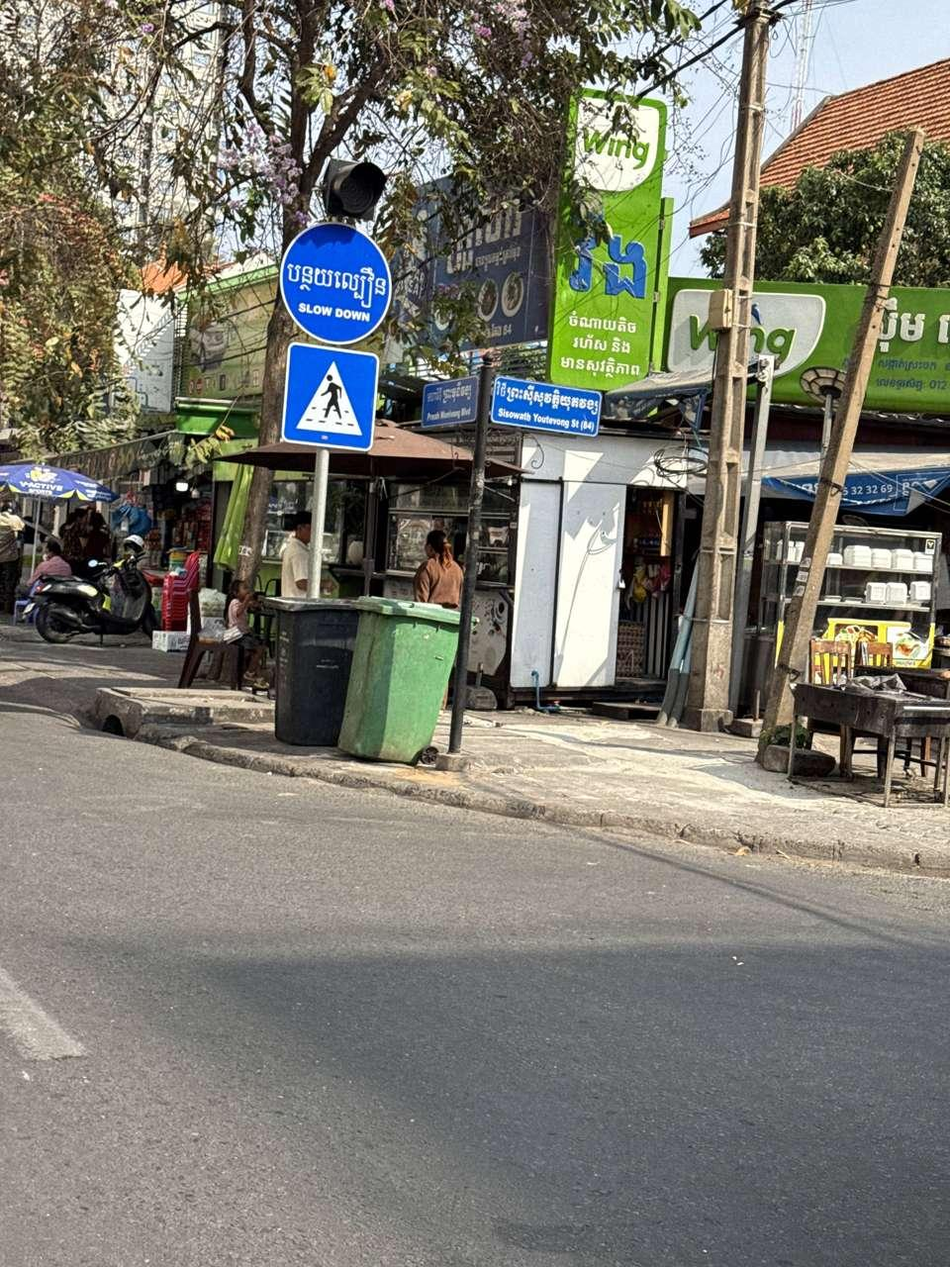pedestrian_crossing: (281, 342, 381, 453)
slow_down: (285, 219, 394, 343)
